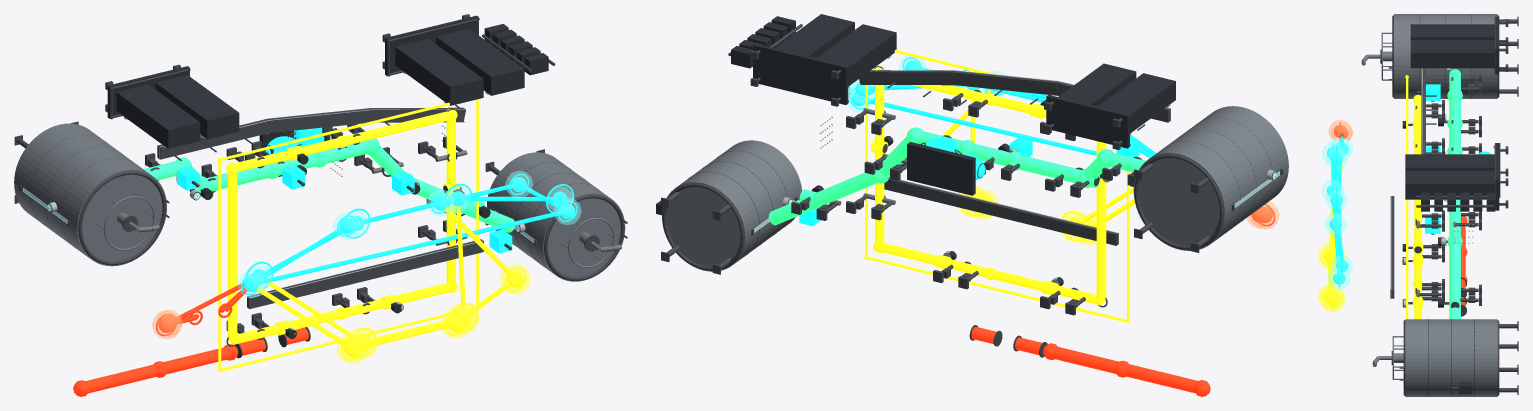
The model's file is safecut_ot_pipeline_graph_v3.glb.
3 views of the same model, side by side, from view 1: azimuth 30°, elevation 25°; view 2: azimuth 150°, elevation 25°; view 3: azimuth 270°, elevation 25° (orthographic). The views are drawn at different scales.
Visible parts, largest first — view 1: Process_tank_A_body, Process_tank_B_body, Safety_logic_cabinet_body, PLC_cabinet_left_body, SCADA_cabinet_body, PLC_cabinet_right_body, Safety_loop_05, Safety_cable_tray_detail_tray_1, Main_OT_cable_tray_tray_1, Safety_cable_tray_detail_tray_0, GraphV3_OT_edge_4, Safety_skid_base (+31 smaller); view 2: Process_tank_A_body, Process_tank_B_body, Safety_skid_base, PLC_skid_base, Main_OT_pump_base, Safety_logic_cabinet_body, PLC_cabinet_left_body, SCADA_cabinet_body, PLC_cabinet_right_body, Main_OT_cable_tray_tray_1, Safety_cable_tray_detail_tray_0, Safety_cable_tray_detail_tray_1 (+15 smaller); view 3: Process_tank_B_body, Process_tank_A_body, PLC_cabinet_right_body, SCADA_cabinet_body, Safety_logic_cabinet_body, PLC_cabinet_left_body, Safety_loop_02, Protected_OT_pipeline_06, GraphV3_safe3_halo, GraphV3_hmi_halo, GraphV3_scada_halo, GraphV3_attacker_halo (+27 smaller).
Boxes of the visible parts, x1=… form: Process_tank_A_body: x1=14, y1=123, x2=166, y2=266; Process_tank_B_body: x1=487, y1=152, x2=625, y2=281; Safety_logic_cabinet_body: x1=395, y1=38, x2=483, y2=105; PLC_cabinet_left_body: x1=116, y1=84, x2=200, y2=148; SCADA_cabinet_body: x1=436, y1=28, x2=524, y2=95; PLC_cabinet_right_body: x1=155, y1=75, x2=239, y2=139; Safety_loop_05: x1=227, y1=172, x2=237, y2=342; Safety_cable_tray_detail_tray_1: x1=364, y1=239, x2=483, y2=280; Main_OT_cable_tray_tray_1: x1=267, y1=108, x2=371, y2=132; Safety_cable_tray_detail_tray_0: x1=247, y1=268, x2=366, y2=309; GraphV3_OT_edge_4: x1=259, y1=211, x2=562, y2=284; Safety_skid_base: x1=385, y1=15, x2=478, y2=76; Process_tank_A_body: x1=1133, y1=106, x2=1288, y2=250; Process_tank_B_body: x1=662, y1=140, x2=802, y2=271; Safety_skid_base: x1=753, y1=43, x2=848, y2=104; PLC_skid_base: x1=1046, y1=94, x2=1129, y2=148; Main_OT_pump_base: x1=907, y1=142, x2=975, y2=195; Safety_logic_cabinet_body: x1=816, y1=24, x2=896, y2=86; PLC_cabinet_left_body: x1=1098, y1=73, x2=1175, y2=133; SCADA_cabinet_body: x1=775, y1=14, x2=854, y2=58; PLC_cabinet_right_body: x1=1058, y1=63, x2=1136, y2=106; Main_OT_cable_tray_tray_1: x1=953, y1=70, x2=1058, y2=95; Safety_cable_tray_detail_tray_0: x1=997, y1=204, x2=1118, y2=245; Safety_cable_tray_detail_tray_1: x1=884, y1=177, x2=998, y2=216; Process_tank_B_body: x1=1405, y1=319, x2=1497, y2=396; Process_tank_A_body: x1=1394, y1=14, x2=1497, y2=98; PLC_cabinet_right_body: x1=1410, y1=40, x2=1494, y2=68; SCADA_cabinet_body: x1=1405, y1=170, x2=1494, y2=199; Safety_logic_cabinet_body: x1=1405, y1=154, x2=1494, y2=170; PLC_cabinet_left_body: x1=1410, y1=24, x2=1494, y2=39; Safety_loop_02: x1=1414, y1=199, x2=1421, y2=319; Protected_OT_pipeline_06: x1=1449, y1=242, x2=1460, y2=319; GraphV3_safe3_halo: x1=1319, y1=285, x2=1344, y2=310; GraphV3_hmi_halo: x1=1324, y1=213, x2=1346, y2=235; GraphV3_scada_halo: x1=1328, y1=268, x2=1350, y2=289; GraphV3_attacker_halo: x1=1328, y1=119, x2=1352, y2=141.
Bounding box in the file's own units: 14.95 × 6.88 × 5.44.
